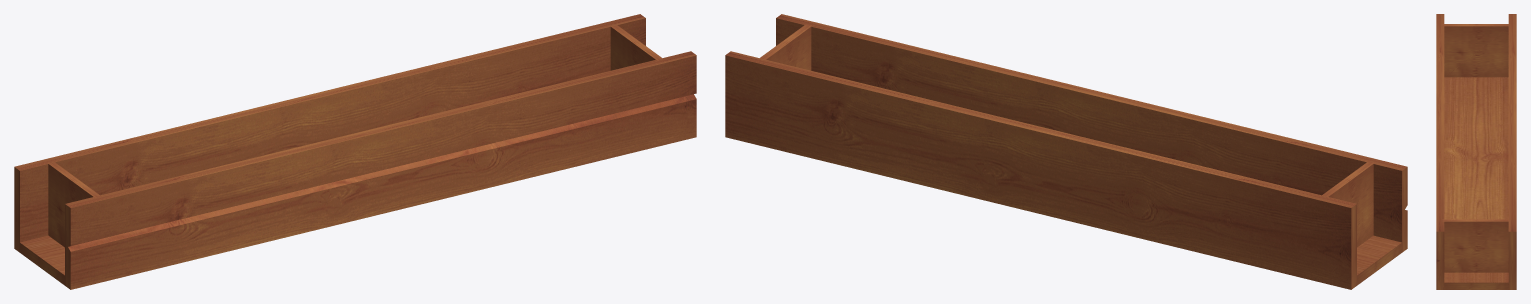
3 views of the same model, side by side, from view 1: azimuth 30°, elevation 25°; view 2: azimuth 150°, elevation 25°; view 3: azimuth 270°, elevation 25° (orthographic). The views are drawn at different scales.
Visible parts, largest first — view 1: front, back, left, right, bottom; view 2: back, front, left, right, bottom; view 3: bottom, right, left, back, front.
Part boxes in pixels (<box>): front: <box>65,51,696,289</box>; back: <box>14,14,645,252</box>; left: <box>48,162,101,247</box>; right: <box>610,25,663,70</box>; bottom: <box>20,235,64,285</box>; back: <box>725,51,1356,289</box>; front: <box>776,14,1407,252</box>; left: <box>1322,161,1374,247</box>; right: <box>760,24,811,70</box>; bottom: <box>1357,235,1401,285</box>; bottom: <box>1444,77,1508,289</box>; right: <box>1442,219,1508,272</box>; left: <box>1442,24,1508,77</box>; back: <box>1508,14,1516,289</box>; front: <box>1436,14,1444,289</box>.
Size of the model in its own units: 48 by 6 by 7.5.
3 materials, 3 textured.
